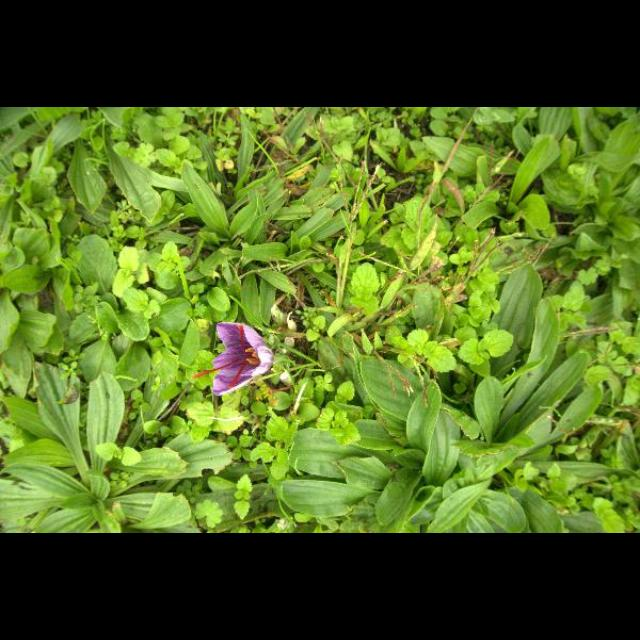flower: (192, 321, 274, 397)
